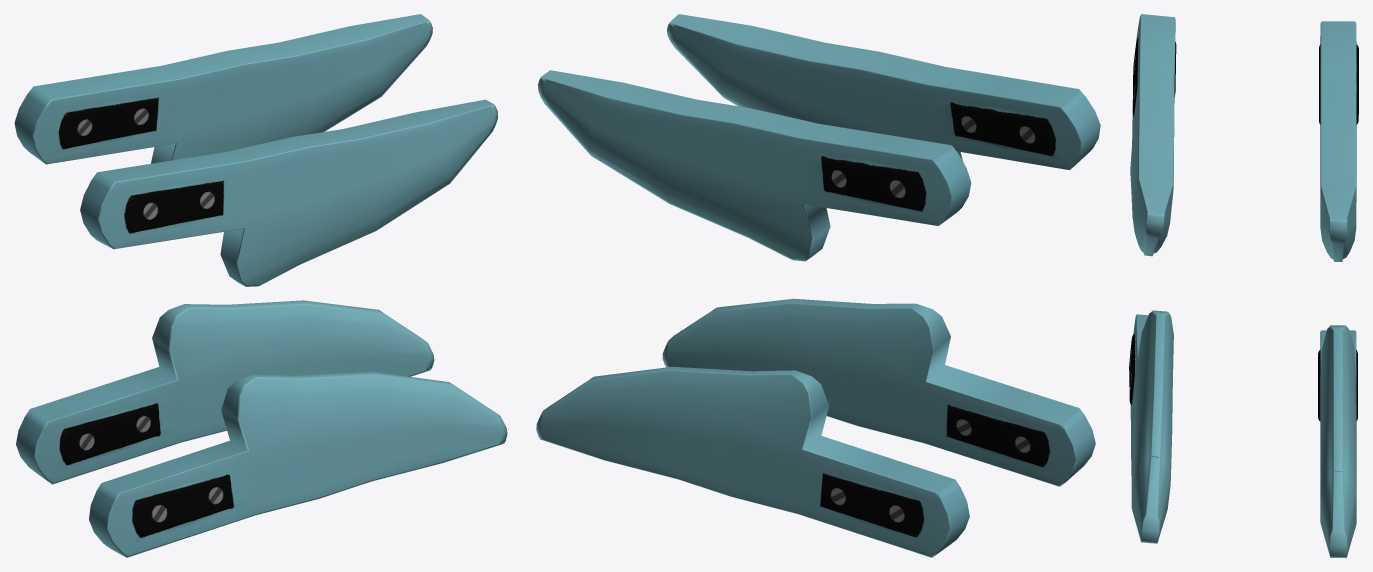
File: KnifeProjectile.obj
3 renders of one model, left to right at view 1: azimuth 30°, elevation 25°; view 2: azimuth 150°, elevation 25°; view 3: azimuth 270°, elevation 25°, orthographic. The views are drawn at different scales.
Parts seen in each view (by area): view 1: Knifes4Tower; view 2: Knifes4Tower; view 3: Knifes4Tower.
Boxes of the visible parts, x1,y1,x2,y2 form: Knifes4Tower: [14, 14, 507, 557]; Knifes4Tower: [536, 14, 1100, 557]; Knifes4Tower: [1129, 14, 1358, 557].
Bounding box in the file's own units: 2.58 × 2.18 × 1.22.
